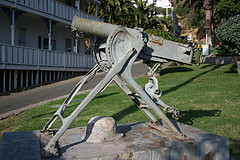rifle: (64, 14, 212, 147)
